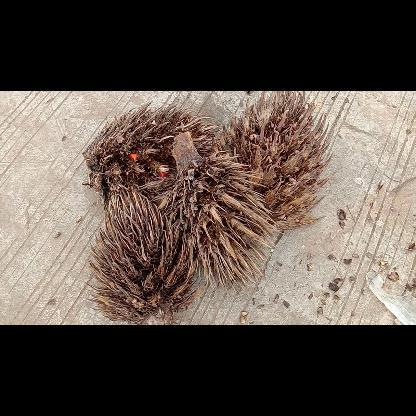Janjang kosong: (156, 131, 284, 297), (211, 90, 333, 228), (86, 190, 200, 324), (82, 101, 218, 203)
